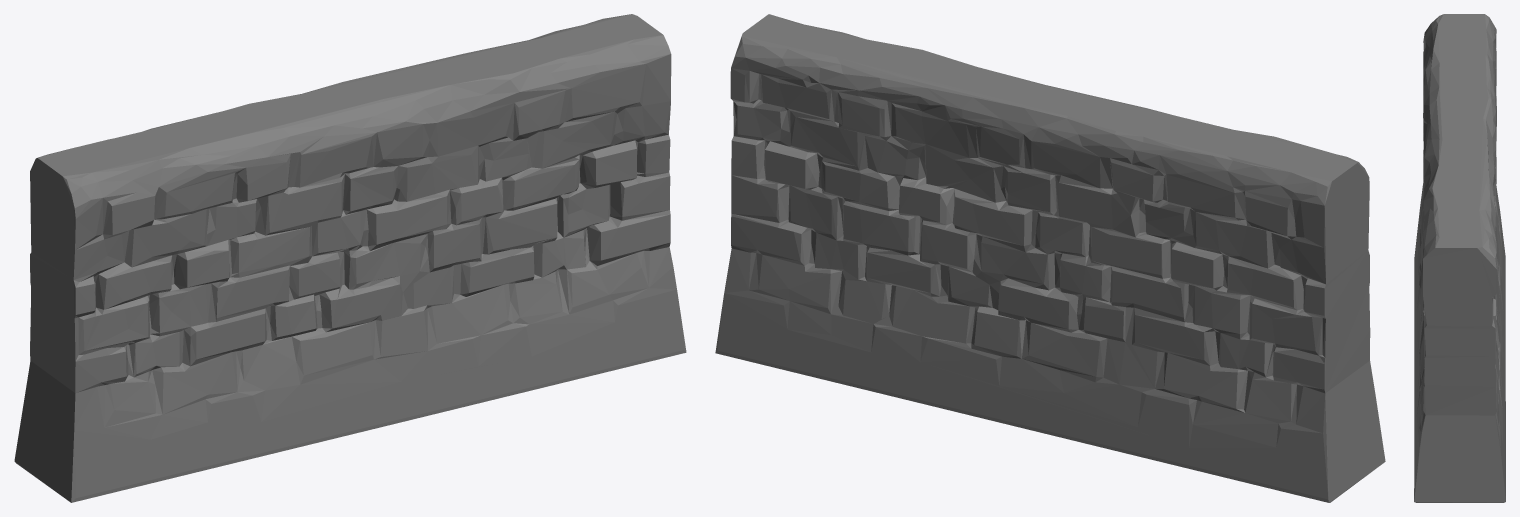
The model's file is village_wall_3x1m.FBX.
3 renders of one model, left to right at view 1: azimuth 30°, elevation 25°; view 2: azimuth 150°, elevation 25°; view 3: azimuth 270°, elevation 25°, orthographic. The views are drawn at different scales.
Parts seen in each view (by area): view 1: village_wall_3x1m; view 2: village_wall_3x1m; view 3: village_wall_3x1m.
Boxes of the visible parts, x1,y1,x2,y2 form: village_wall_3x1m: (14, 14, 686, 502); village_wall_3x1m: (715, 14, 1385, 502); village_wall_3x1m: (1414, 14, 1505, 502).
Bounding box in the file's own units: 3.1 × 1.5 × 0.4964.
